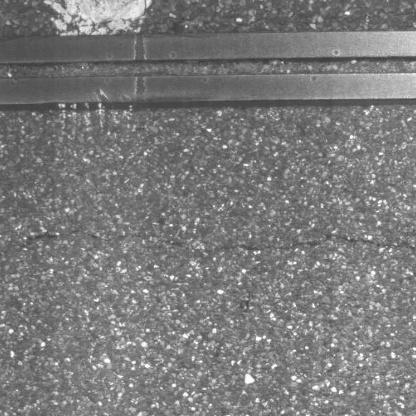Cracks: (0, 224, 103, 267), (217, 235, 416, 254), (161, 240, 190, 249)
